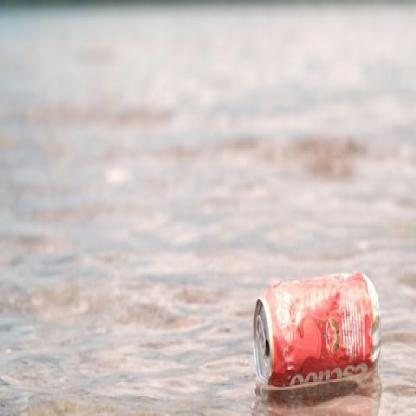can: (251, 274, 381, 387)
